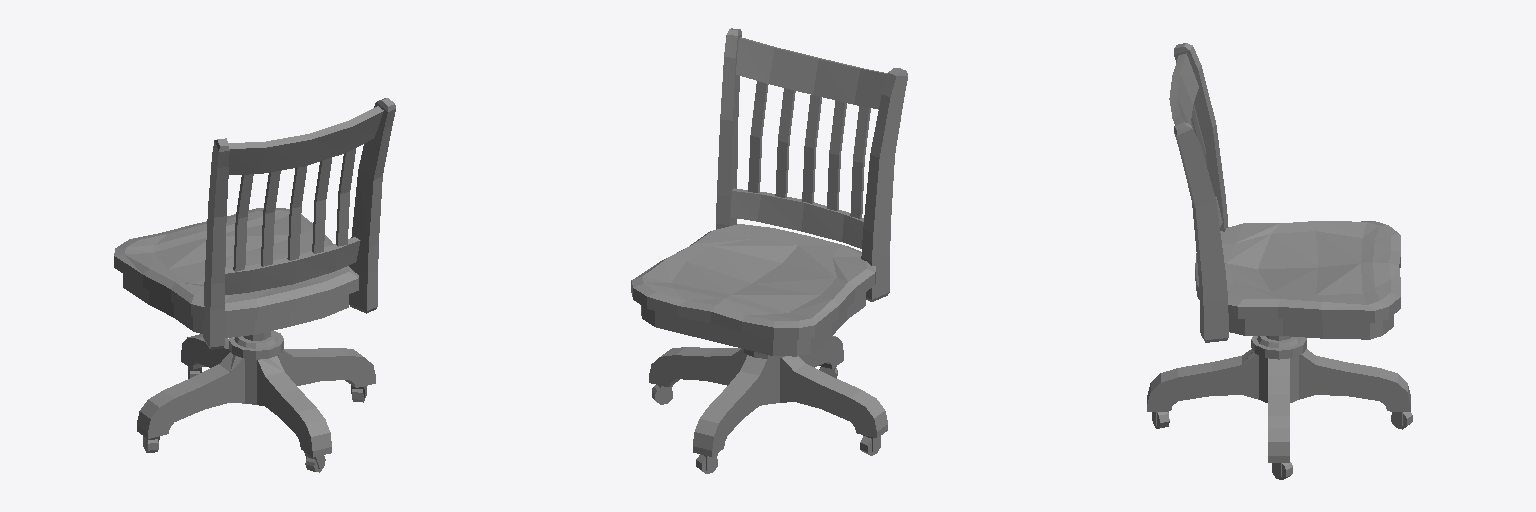
The model's file is Desk_Chair.obj.
3 renders of one model, left to right at view 1: azimuth 30°, elevation 25°; view 2: azimuth 150°, elevation 25°; view 3: azimuth 270°, elevation 25°, orthographic.
Visible parts, largest first — view 1: desk_chair; view 2: desk_chair; view 3: desk_chair.
Part boxes in pixels (bbox=[...]): desk_chair: bbox=[114, 98, 395, 472]; desk_chair: bbox=[631, 28, 907, 473]; desk_chair: bbox=[1147, 43, 1412, 479].
Bounding box in the file's own units: 63.16 × 90.7 × 63.59.